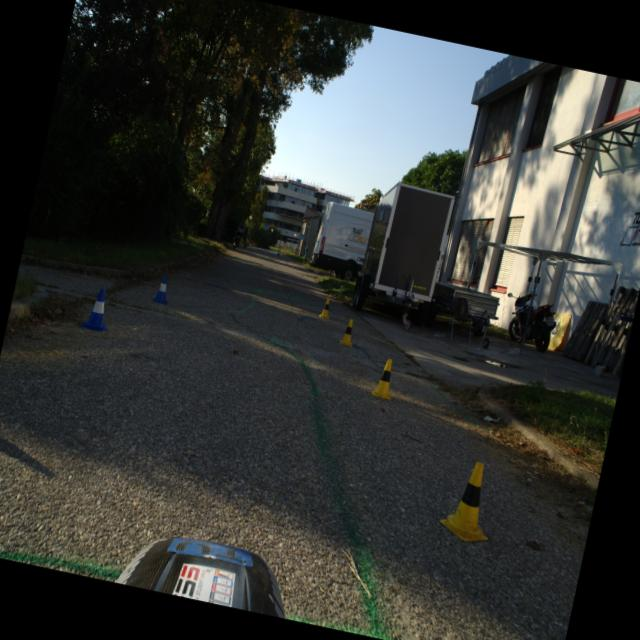blue_cone: (80, 286, 116, 332), (152, 274, 172, 304)
yellow_cone: (436, 456, 502, 544), (371, 356, 398, 400), (338, 317, 357, 347), (317, 296, 333, 320)
